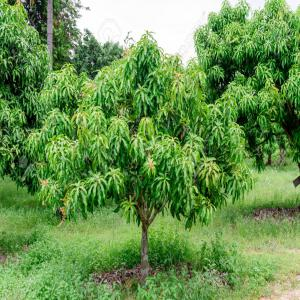Tree: (65, 29, 243, 275)
